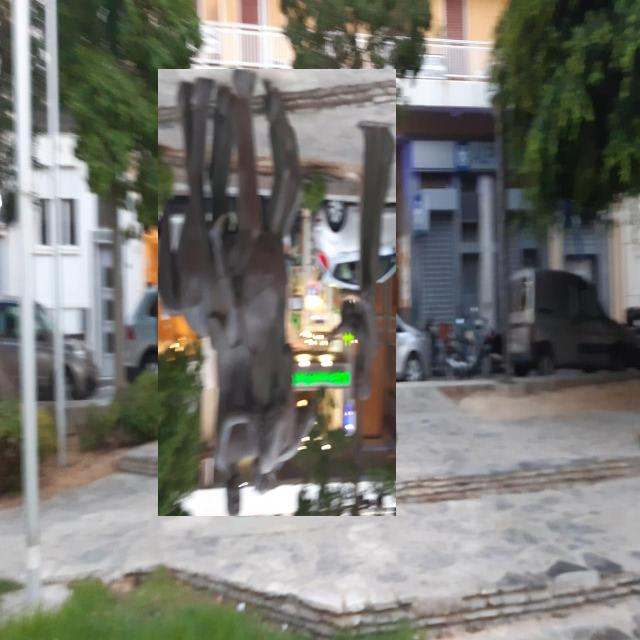Aretousa: (159, 70, 397, 517)
